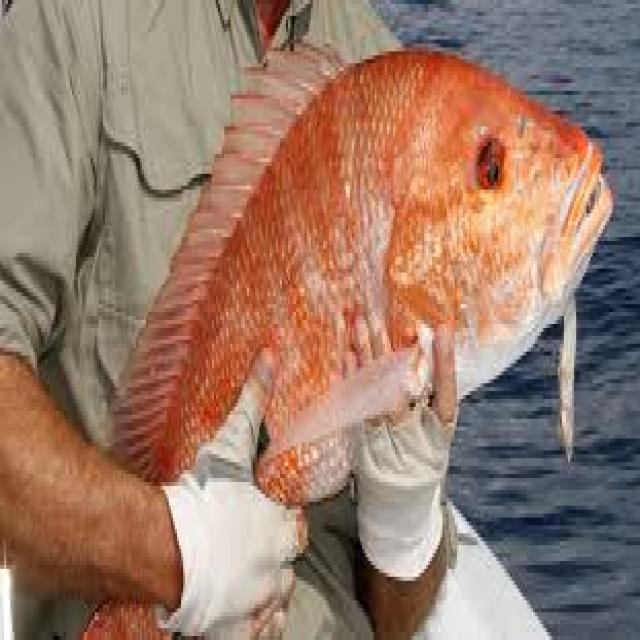northern-red-snapper: (65, 27, 619, 640)
